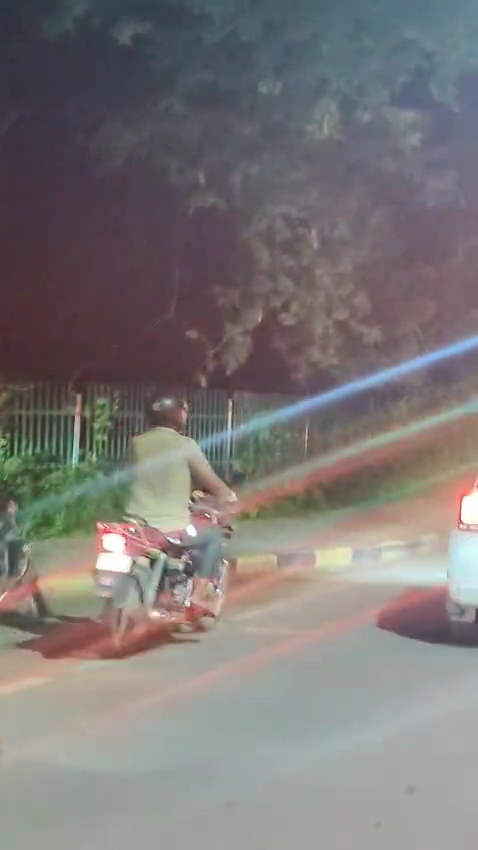BikeWithRider: (77, 381, 247, 663)
Helmet: (136, 386, 198, 439)
